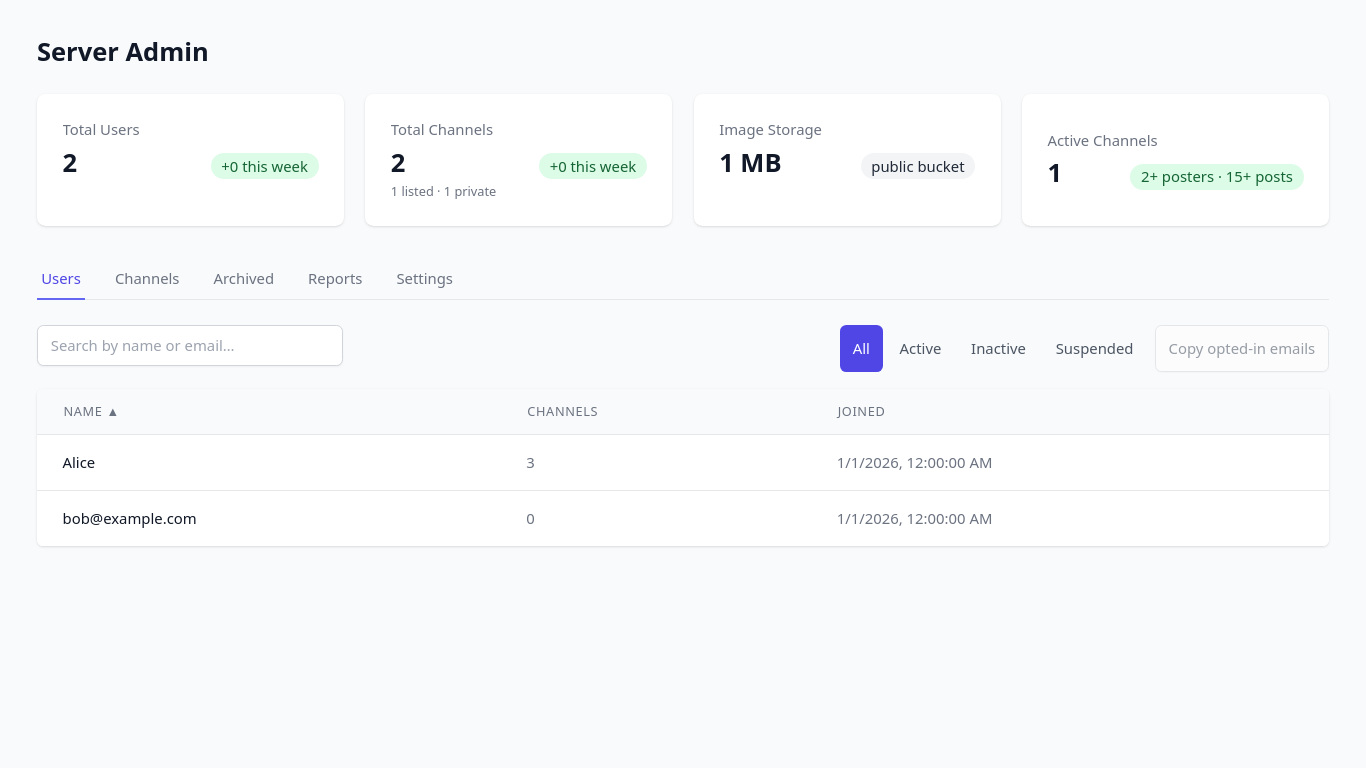
Test: AdminView › Show all clears the active filter
This screenshot has width=1366, height=768.
expect the text "Active Channels" is shown: met, box [1047,130,1158,150]
Click the button with aria-label "Active Channels: 1. Show channels with real activity" at (1103, 140), box [1022,94,1329,226]
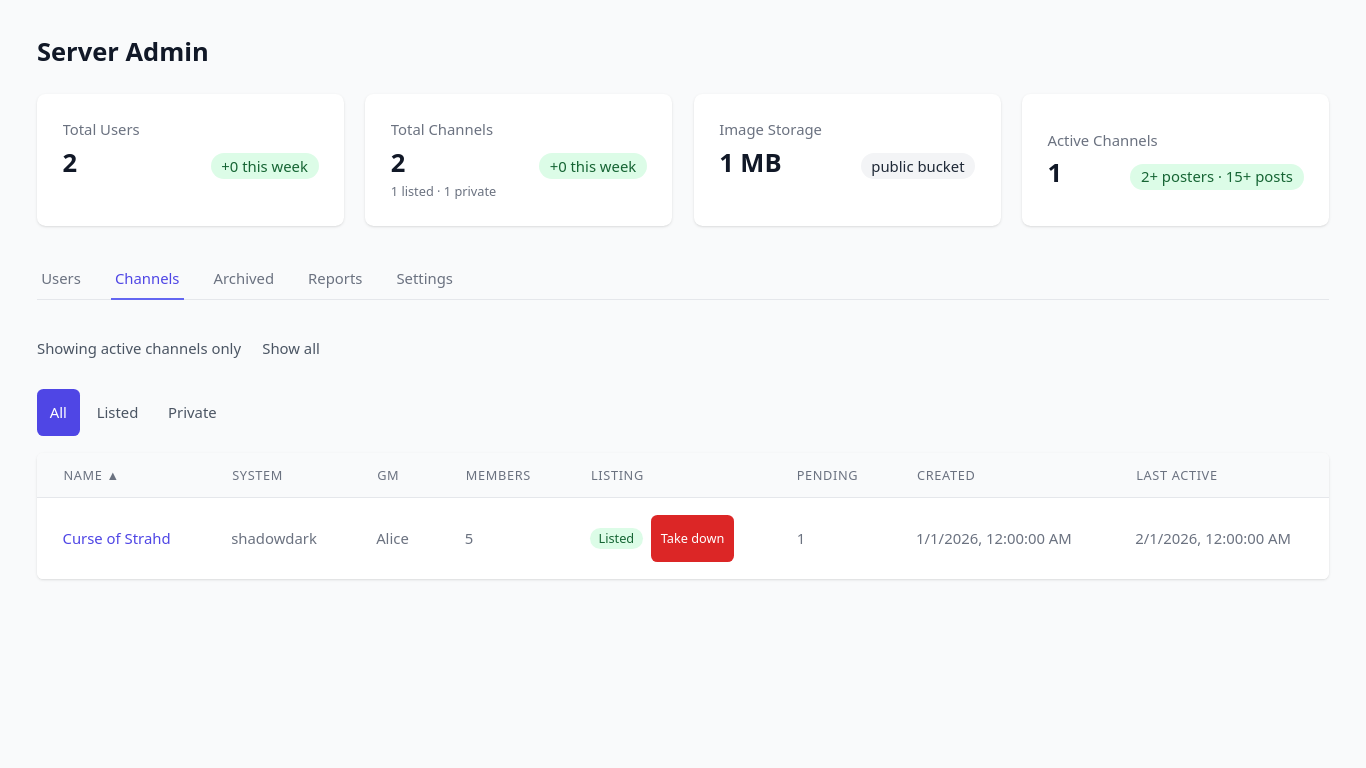
expect the text "Showing active channels only" is shown: met, box [37,338,241,359]
Click the button "Show all" at (291, 349), box [250,325,333,372]
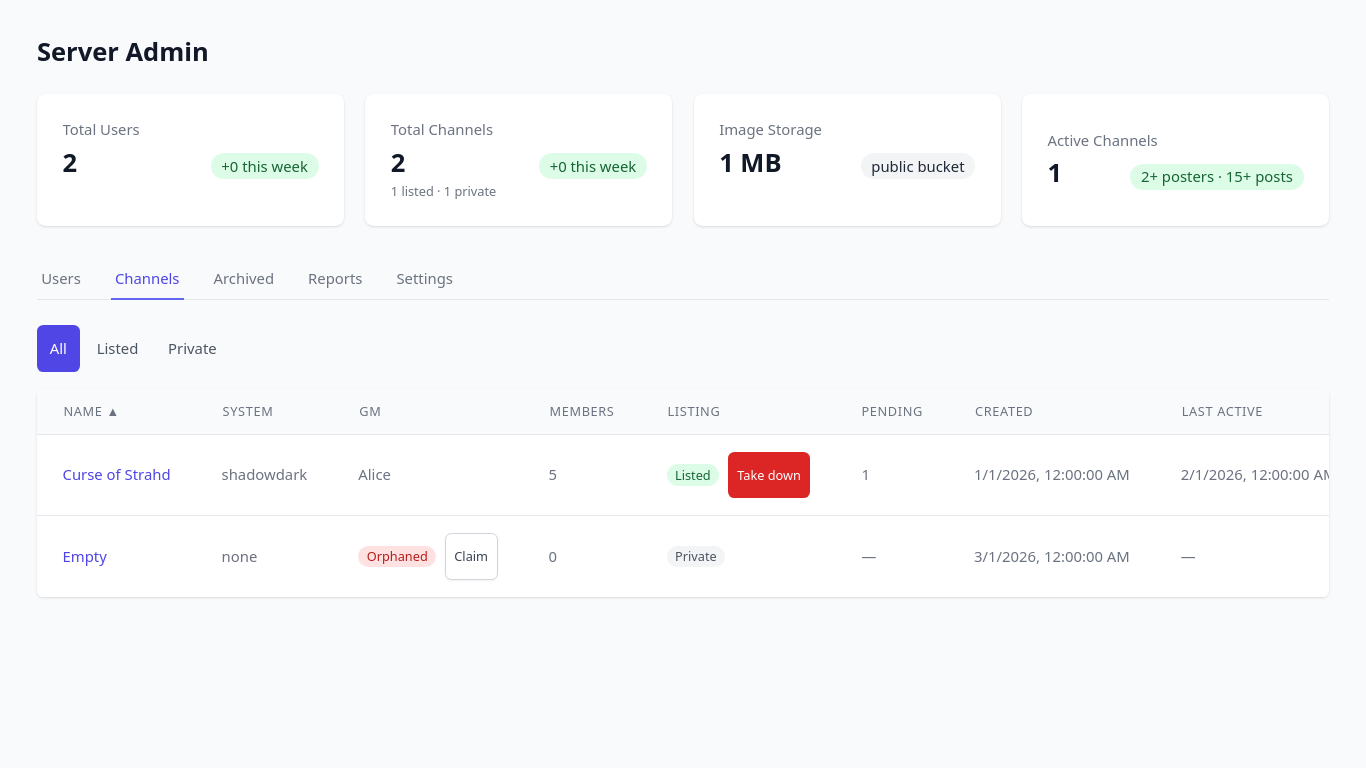
expect the link "Empty" is shown: met, box [62,546,107,566]
expect the text "Showing active channels only" is gone: met
